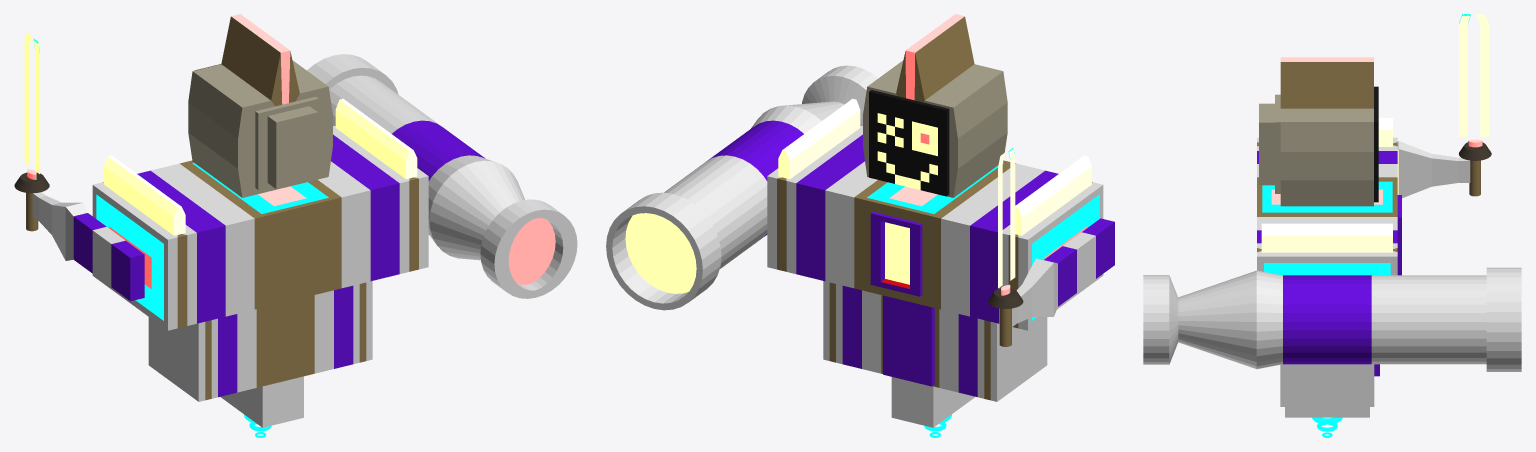
Rendered from Model_EnemySpecial.fbx.
3 renders of one model, left to right at view 1: azimuth 30°, elevation 25°; view 2: azimuth 150°, elevation 25°; view 3: azimuth 270°, elevation 25°, orthographic. The views are drawn at different scales.
Parts seen in each view (by area): view 1: Special; view 2: Special; view 3: Special.
Boxes of the visible parts, x1,y1,x2,y2 form: Special: [14, 14, 577, 437]; Special: [606, 14, 1114, 437]; Special: [1143, 14, 1521, 437].
Bounding box in the file's own units: 449 × 442 × 403.
